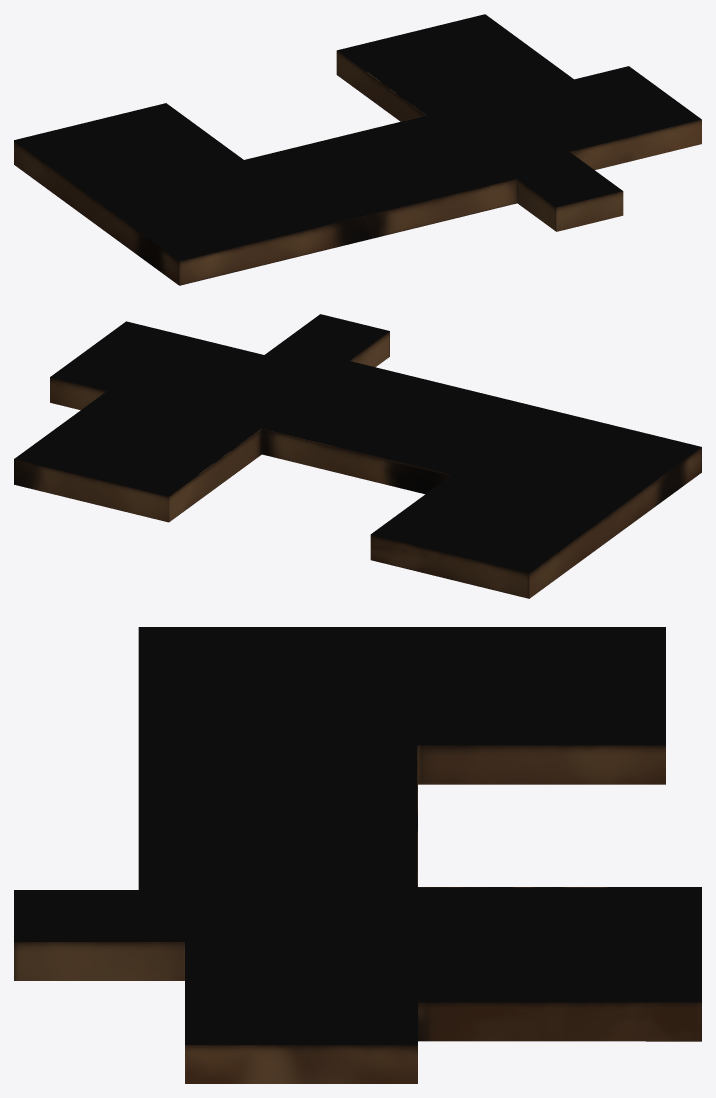
File: Museum_Ceiling.FBX
3 views of the same model, one above another, from view 1: azimuth 30°, elevation 25°; view 2: azimuth 150°, elevation 25°; view 3: azimuth 270°, elevation 25° (orthographic). The views are drawn at different scales.
Parts seen in each view (by area): view 1: Museum_Ceiling; view 2: Museum_Ceiling; view 3: Museum_Ceiling.
Part boxes in pixels (x1,y1,x2,y2): Museum_Ceiling: [14, 14, 701, 285]; Museum_Ceiling: [14, 314, 701, 598]; Museum_Ceiling: [14, 627, 701, 1083].
Size of the model in its own units: 15602 by 681 by 10858.
1 material, 1 textured.
